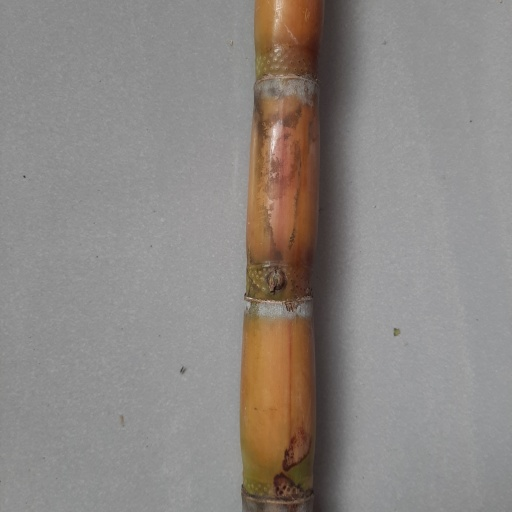Bud: (264, 266, 289, 296)
